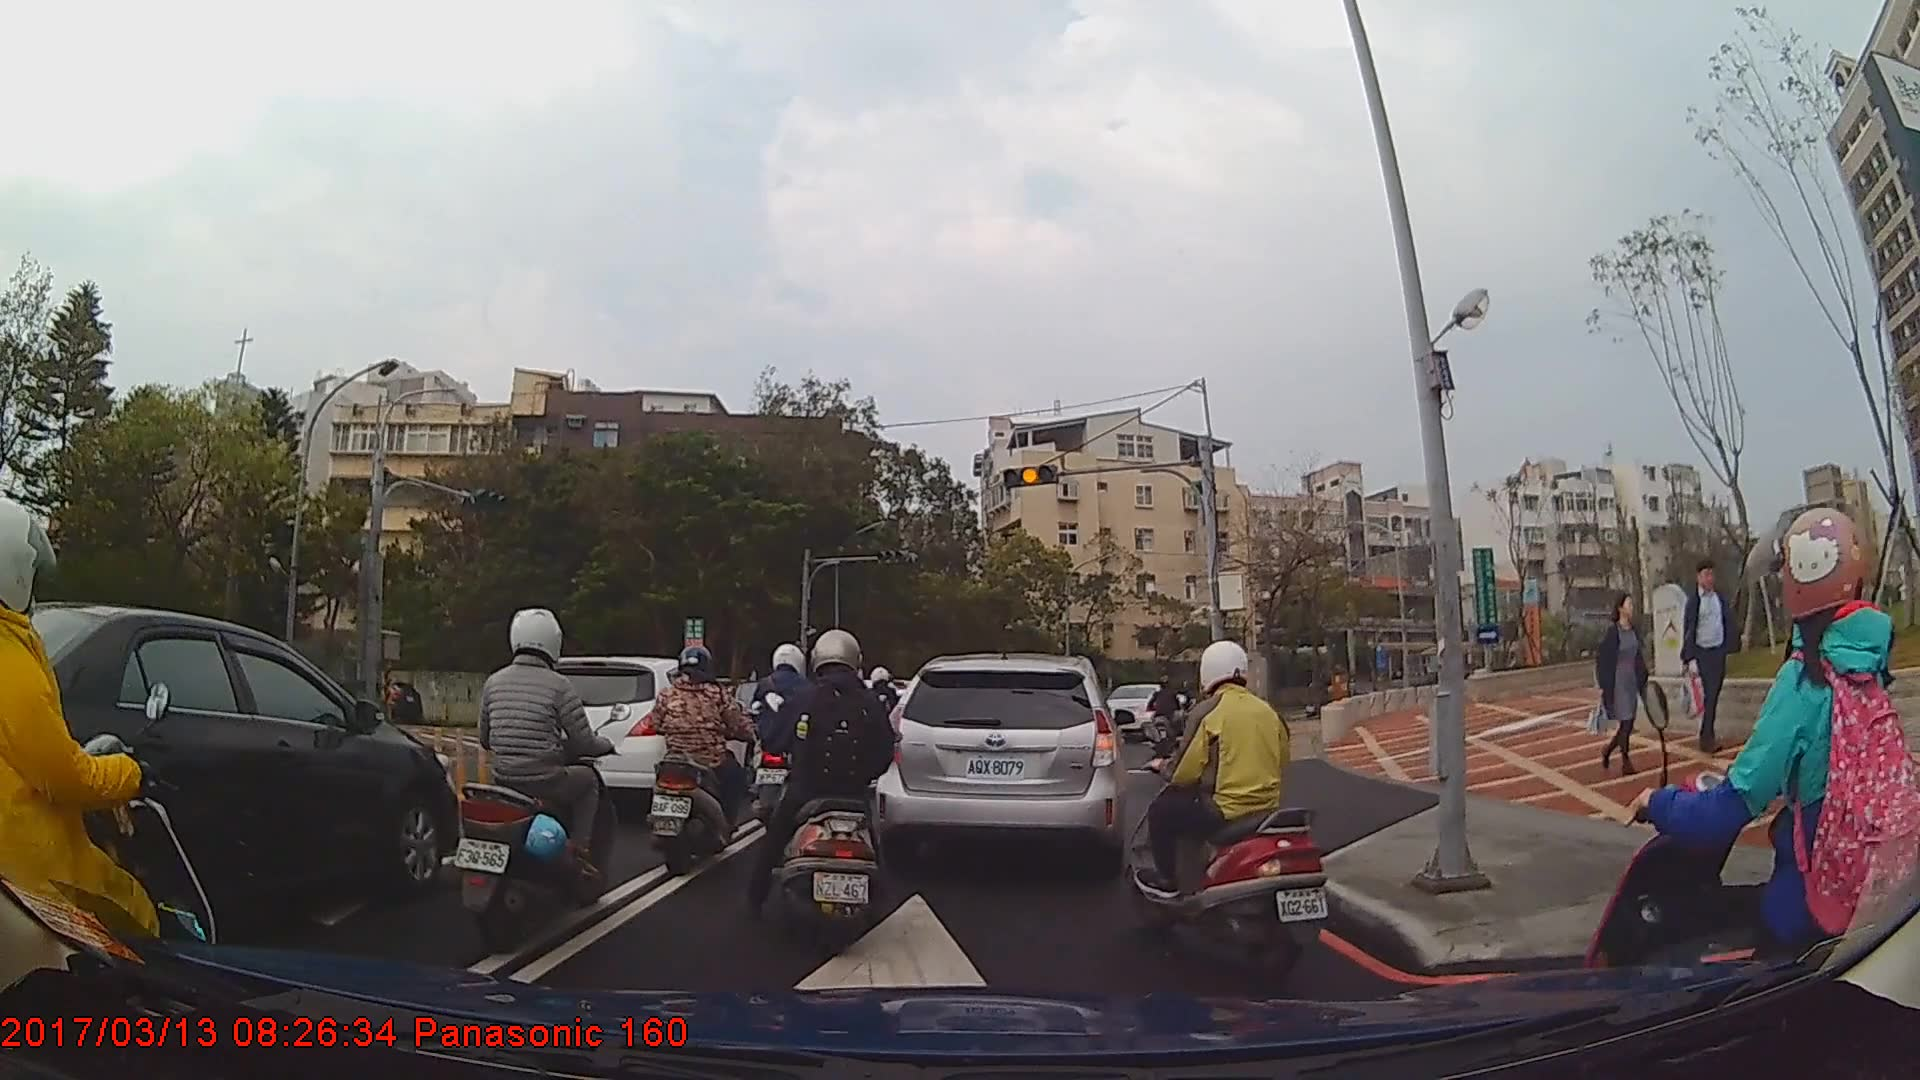pedestrian: (1580, 591, 1654, 784), (1678, 559, 1741, 754)
rider: (1596, 505, 1891, 1072), (1, 499, 229, 1065), (1125, 642, 1329, 979), (449, 607, 619, 952), (755, 630, 900, 956), (646, 646, 758, 874), (744, 638, 831, 842), (1146, 674, 1180, 759)
vehicle: (0, 602, 459, 946), (876, 652, 1128, 869), (520, 656, 760, 818), (1101, 681, 1185, 745), (350, 679, 421, 725)
